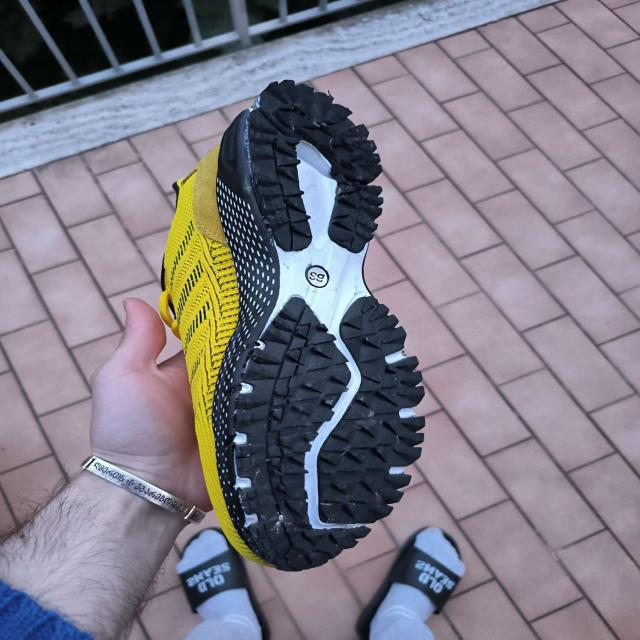shoe: (155, 77, 428, 571)
